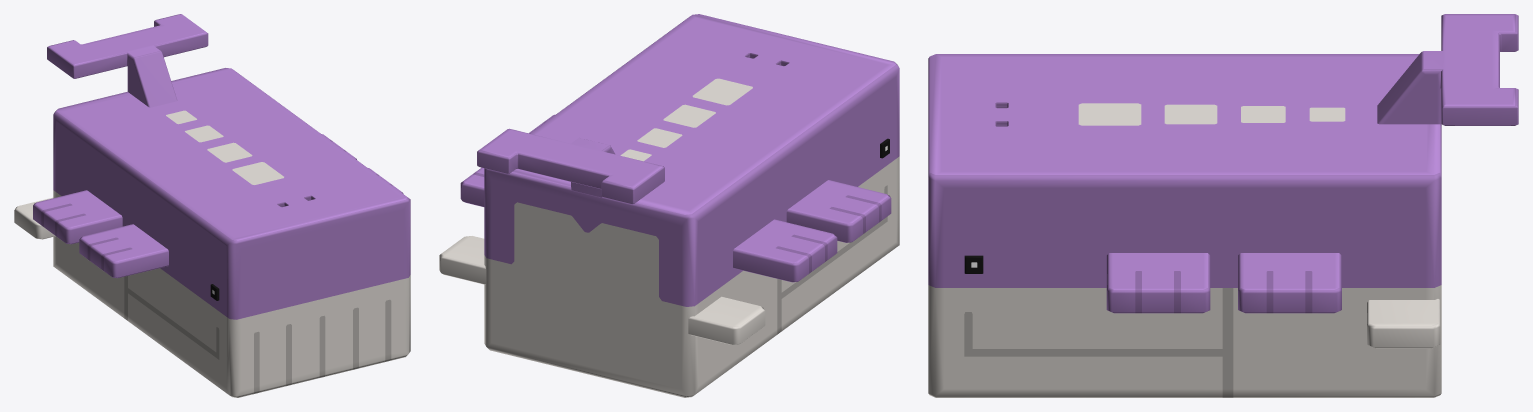
Rendered from model_shiny.obj.
3 views of the same model, side by side, from view 1: azimuth 30°, elevation 25°; view 2: azimuth 150°, elevation 25°; view 3: azimuth 270°, elevation 25° (orthographic). The views are drawn at different scales.
Parts seen in each view (by area): view 1: 0321_wailord_shiny; view 2: 0321_wailord_shiny; view 3: 0321_wailord_shiny.
Part boxes in pixels (x1,y1,x2,y2): 0321_wailord_shiny: [14, 14, 410, 397]; 0321_wailord_shiny: [439, 14, 899, 397]; 0321_wailord_shiny: [928, 14, 1518, 397].
Bounding box in the file's own units: 3.56 × 2.29 × 4.42.
Materials: 1 (1 with a texture image).
